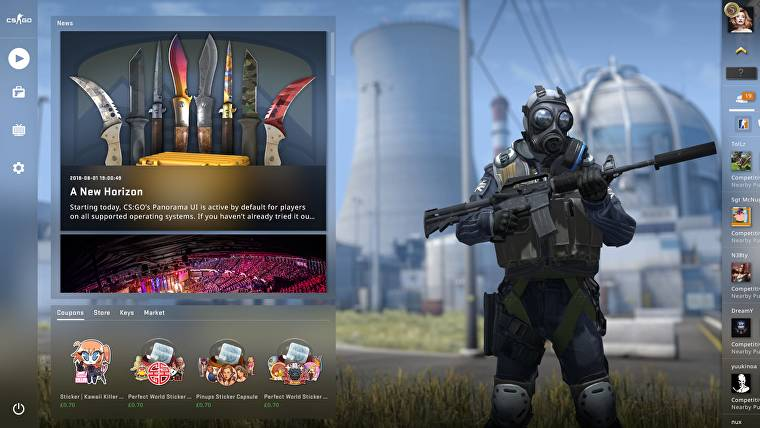c: (458, 85, 627, 428)
ch: (520, 82, 574, 157)
